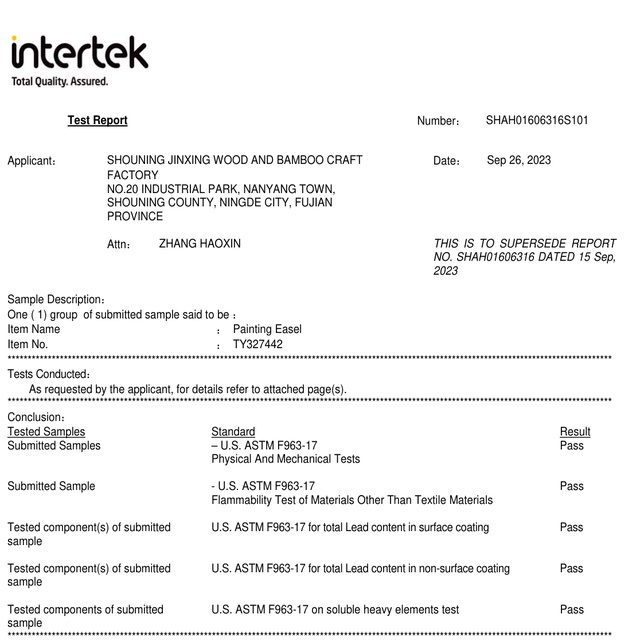intertek: (6, 29, 154, 72)
